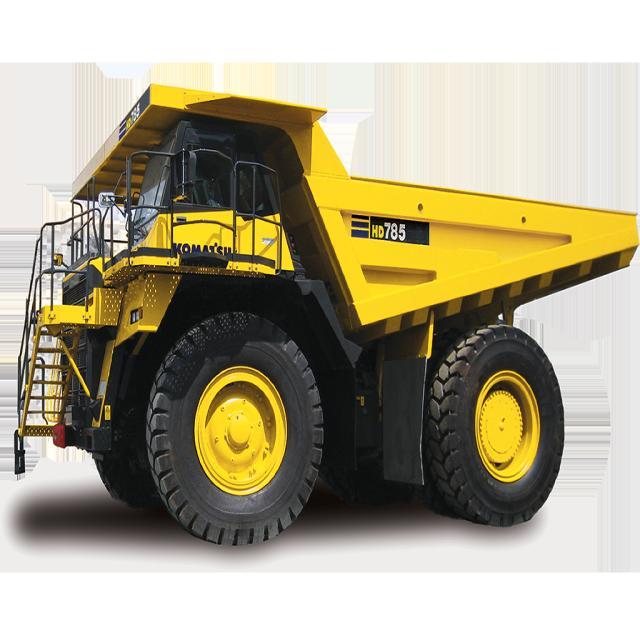dump_truck: (11, 72, 636, 557)
